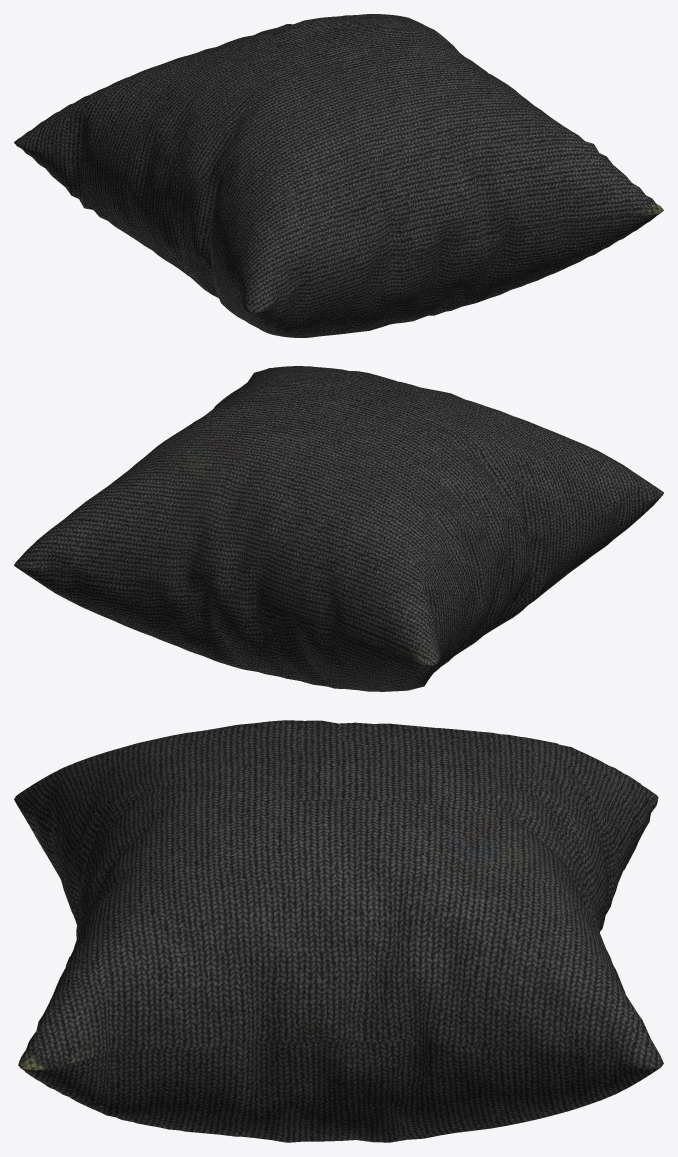
3 views of the same model, one above another, from view 1: azimuth 30°, elevation 25°; view 2: azimuth 150°, elevation 25°; view 3: azimuth 270°, elevation 25° (orthographic). The views are drawn at different scales.
Parts seen in each view (by area): view 1: Pillow; view 2: Pillow; view 3: Pillow.
Boxes of the visible parts, <box> form: Pillow: <box>14,14,663,337</box>; Pillow: <box>14,366,663,691</box>; Pillow: <box>14,720,663,1142</box>.
Bounding box in the file's own units: 173 × 94.62 × 171.
Materials: 1 (1 with a texture image).
